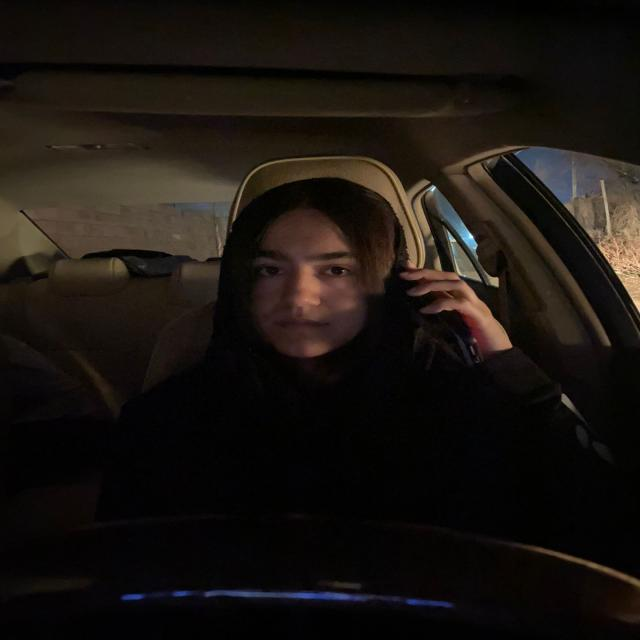mobile: (395, 271, 497, 372)
person: (244, 191, 386, 366)
